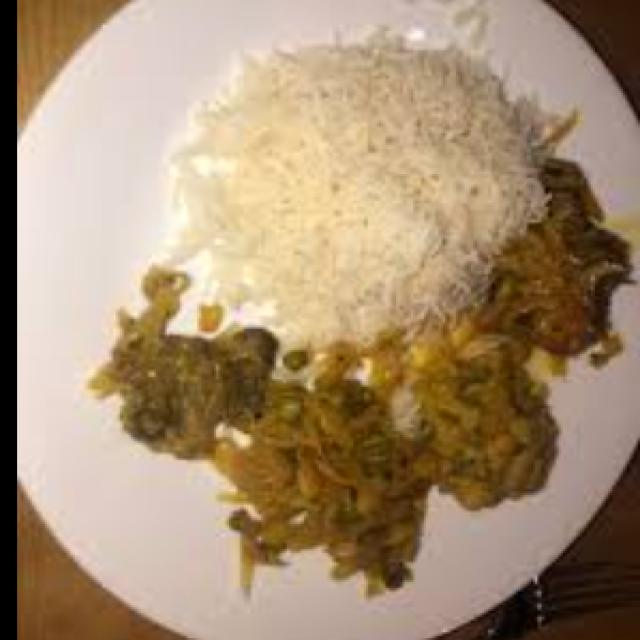rice: (216, 61, 488, 304)
